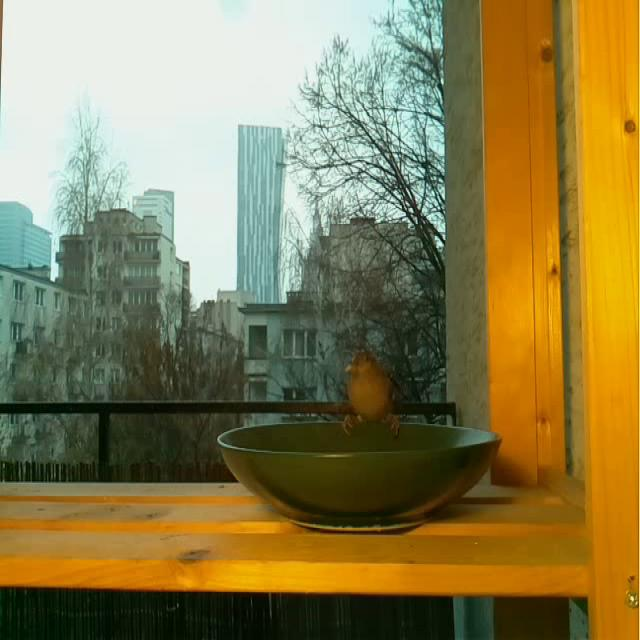Wrobel: (341, 349, 405, 428)
